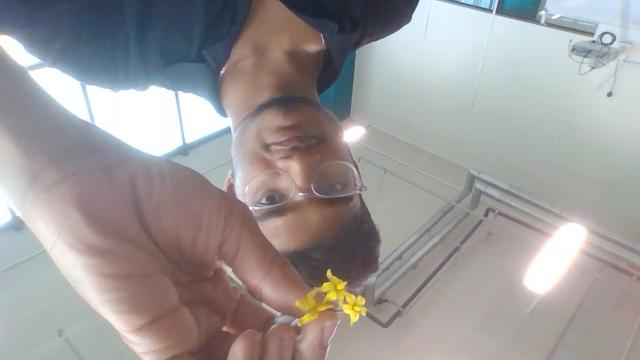Anthesis: (294, 290, 334, 327), (340, 292, 369, 325), (323, 269, 348, 294), (351, 299, 368, 316)
